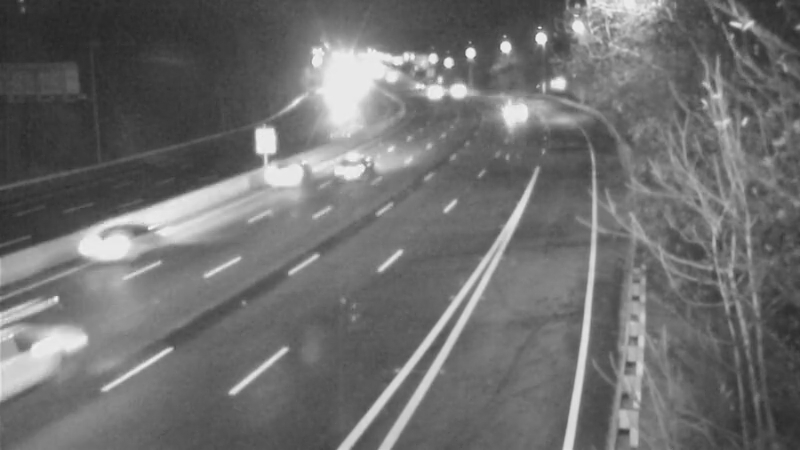vehicle: (1, 307, 98, 417), (302, 132, 382, 212), (235, 134, 315, 214), (70, 204, 150, 284), (432, 64, 482, 114), (402, 67, 452, 117), (495, 89, 545, 139)
